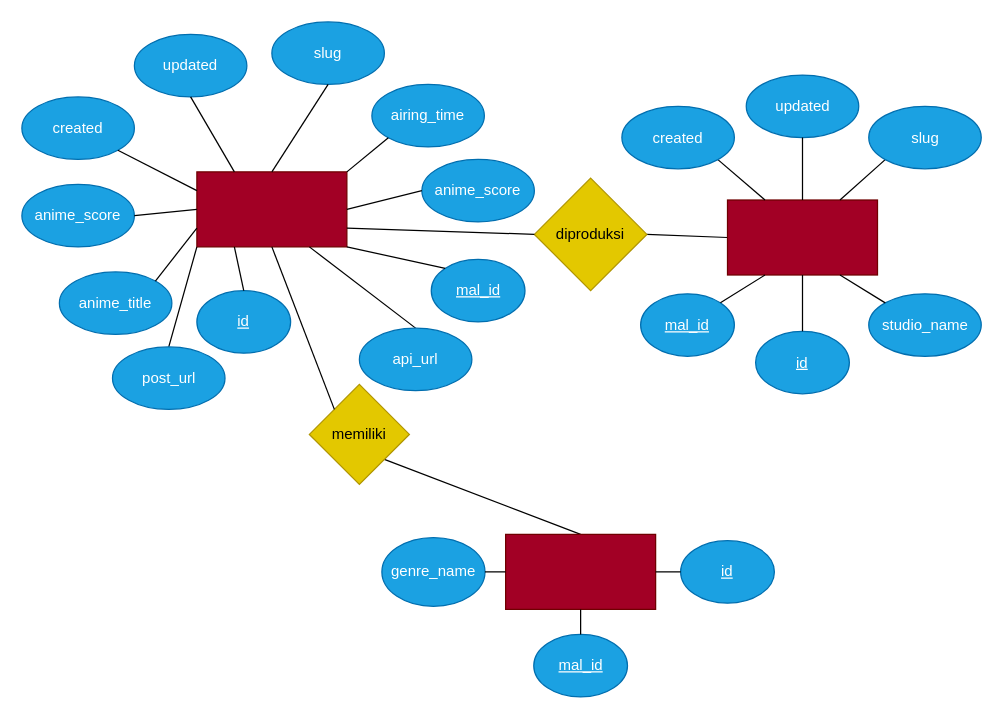
This 1004x719 diagram has some shape labels left out. Each missing label, with the centre of its shape:
api_anime: point 271,209
api_genre: point 580,571
api_studio: point 802,237
